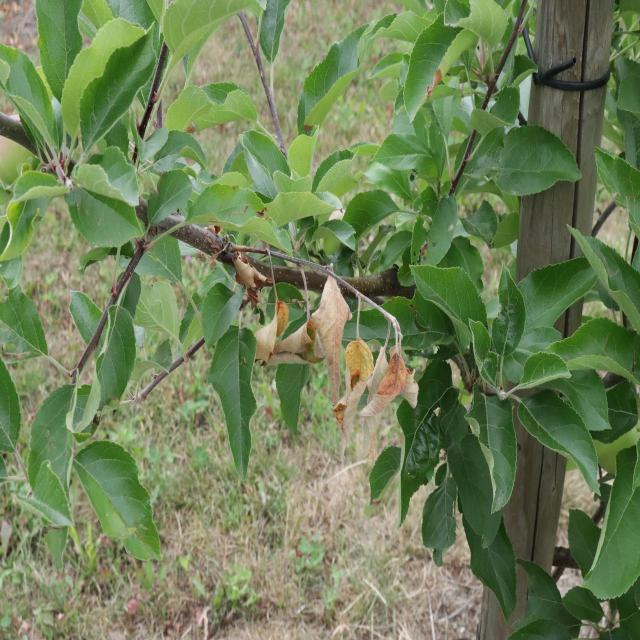-FireBlight-: (220, 240, 418, 446)
